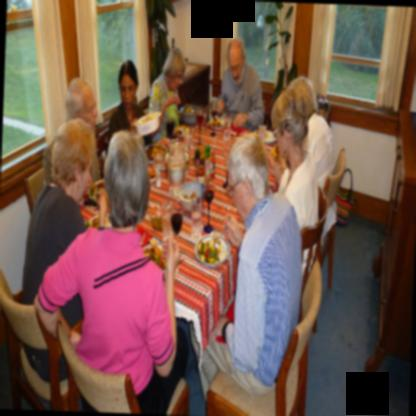handbag: (334, 168, 357, 225)
